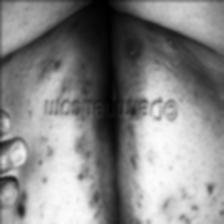Non-Cancerous Skin Condition: (160, 188, 196, 224), (122, 36, 140, 54), (14, 202, 27, 218), (89, 24, 97, 42), (54, 58, 60, 70), (77, 174, 81, 180)
